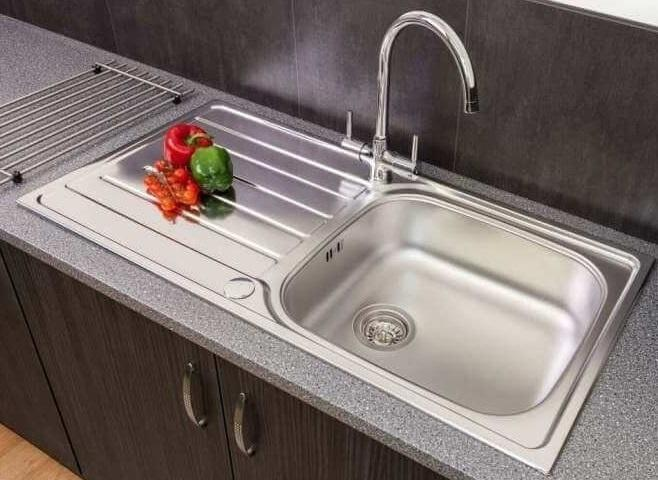Lavaplatos: (66, 8, 657, 462)
